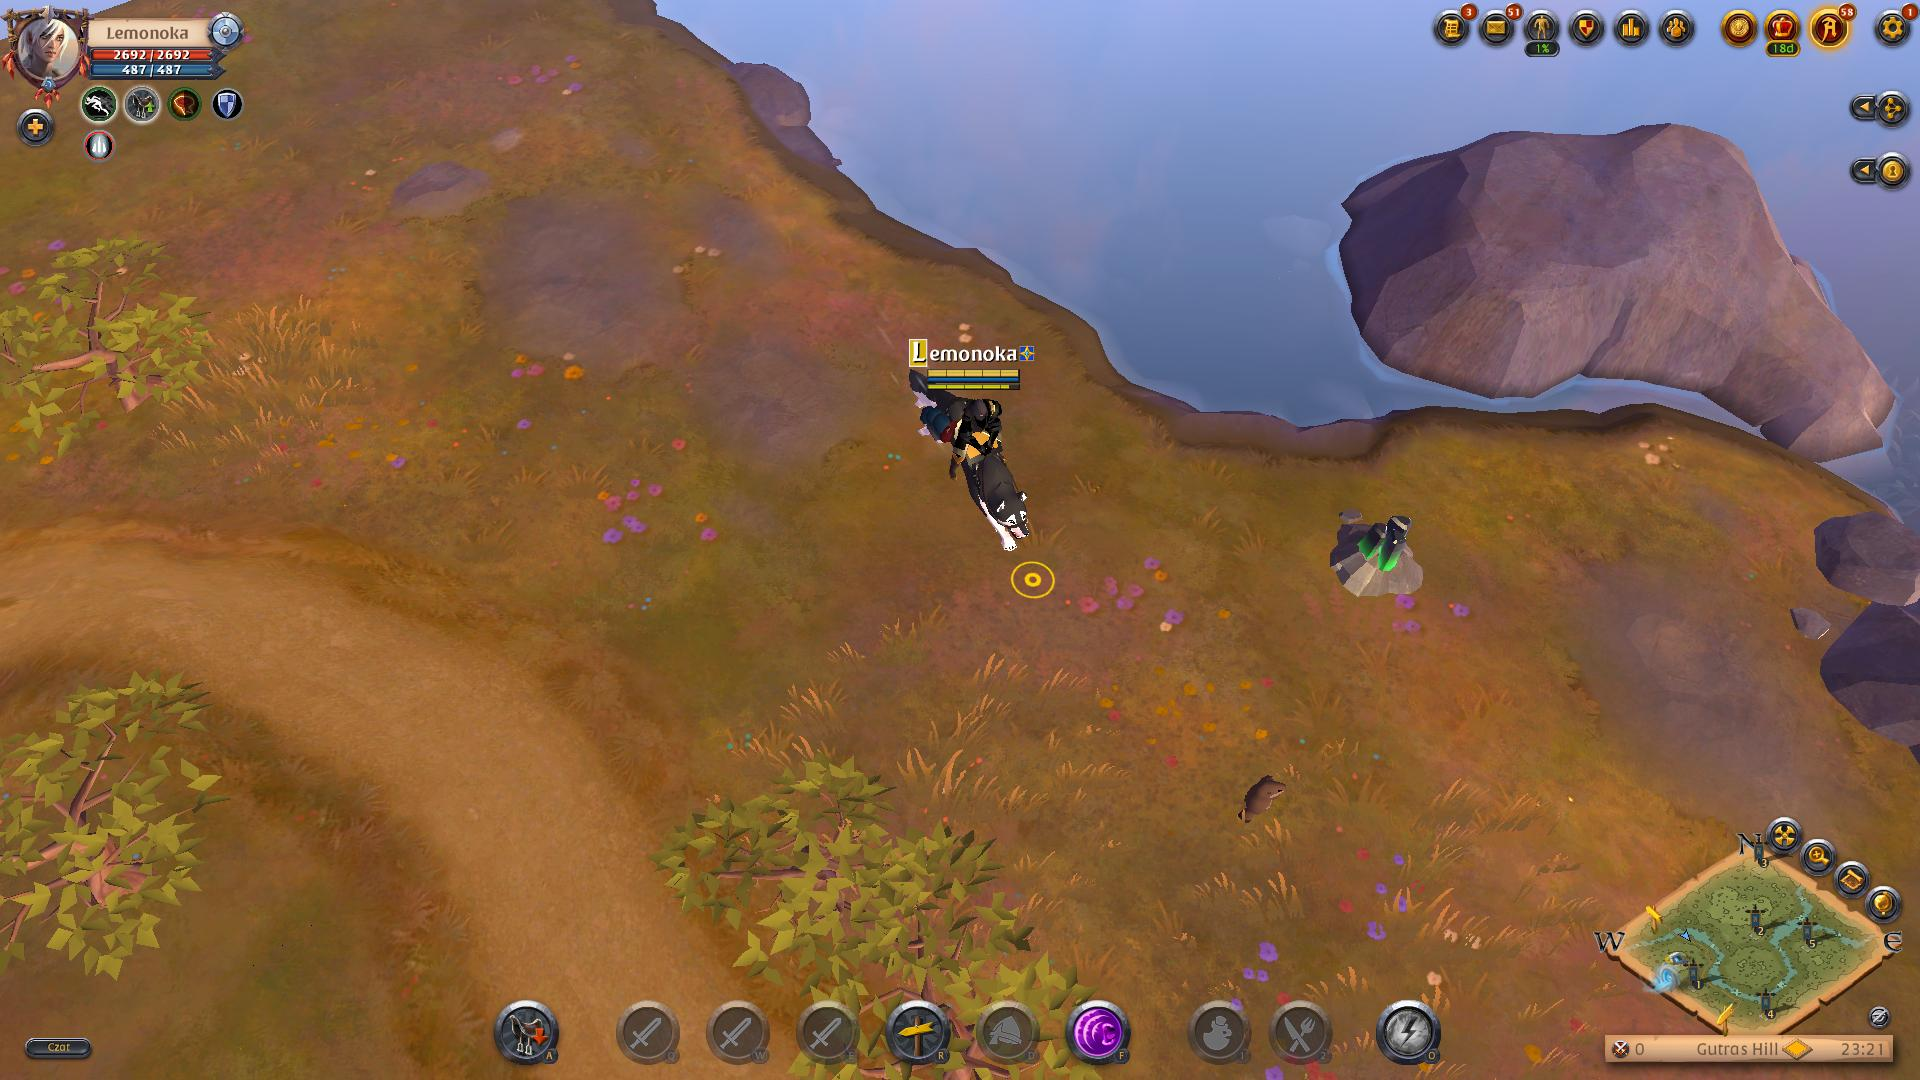ore tier 3: (1332, 510, 1432, 607)
